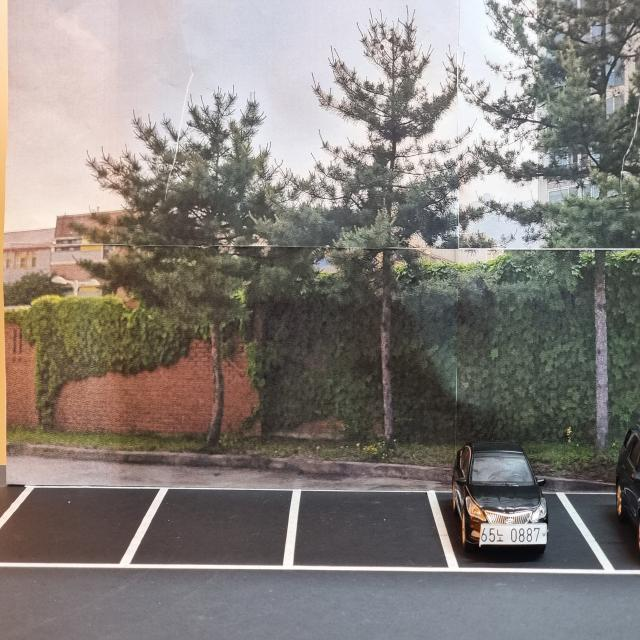empty: (136, 479, 295, 589), (284, 486, 446, 583), (5, 486, 153, 576)
occupied: (448, 442, 559, 556)
